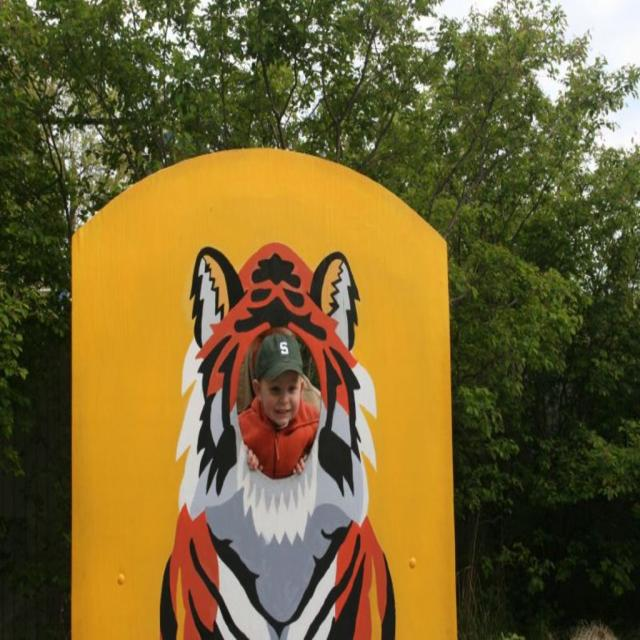Tiger: (156, 235, 398, 639)
